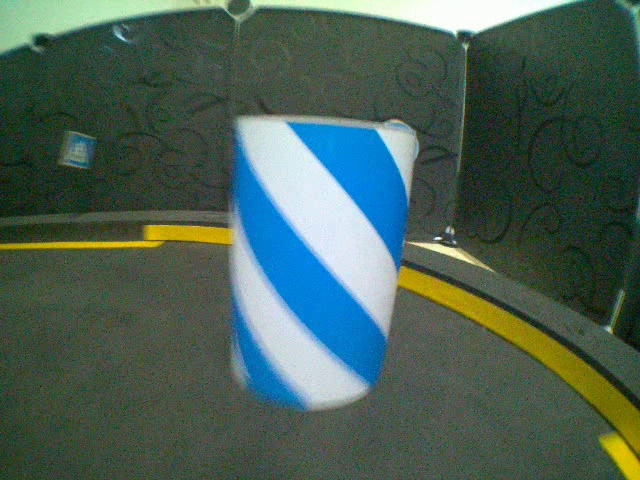bucket: (226, 116, 416, 410)
